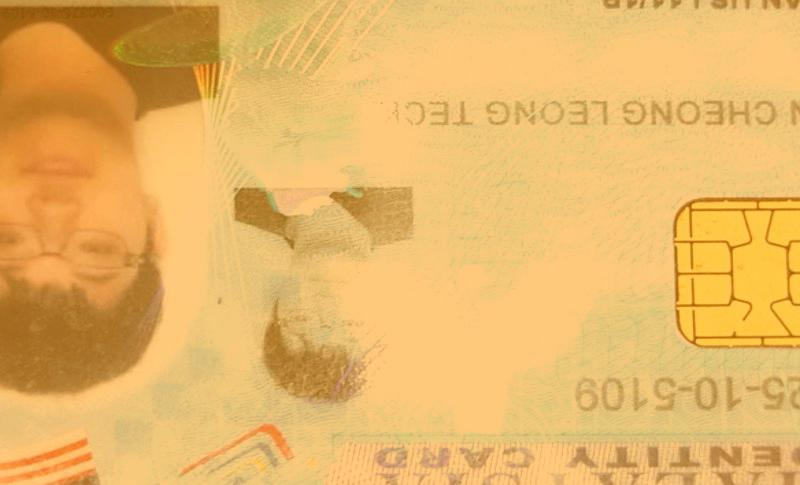hologramB: (224, 1, 378, 187)
